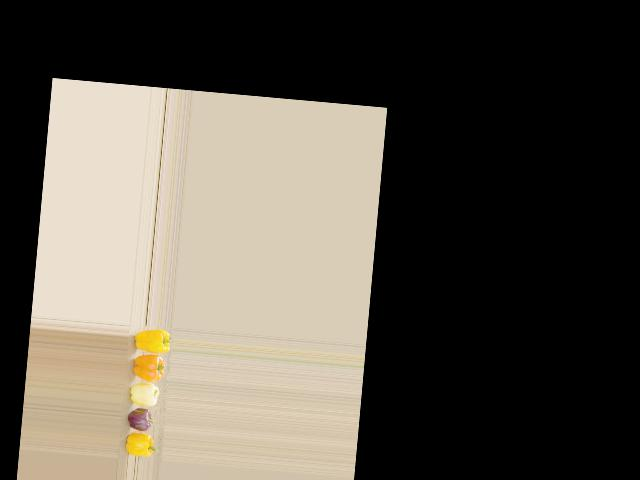bell_pepper: (119, 433, 159, 460)
